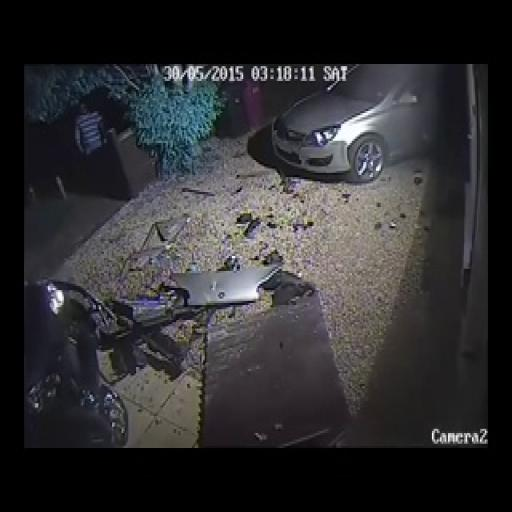Car: (256, 64, 465, 196)
Major Accident: (26, 218, 346, 462)
Motor: (32, 266, 132, 458)
